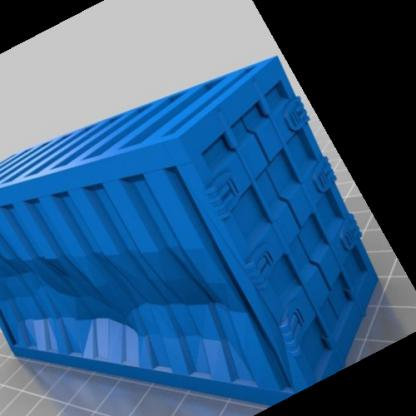Damage: (7, 244, 223, 316)
